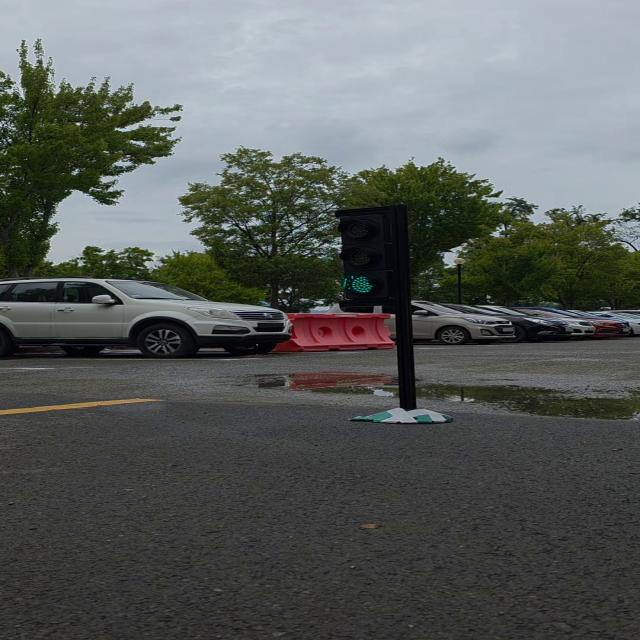green: (331, 203, 414, 305)
